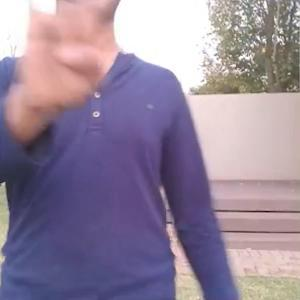takeoff-hand: (13, 0, 119, 96)
